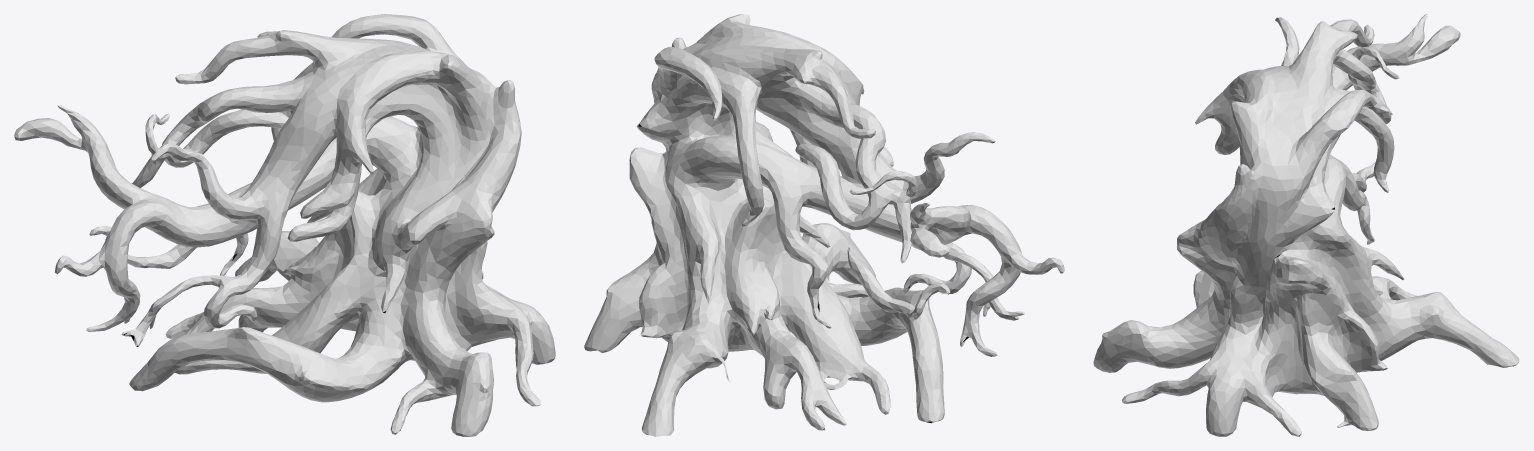
Rendered from roots01.glb.
3 views of the same model, side by side, from view 1: azimuth 30°, elevation 25°; view 2: azimuth 150°, elevation 25°; view 3: azimuth 270°, elevation 25° (orthographic). The views are drawn at different scales.
Visible parts, largest first — view 1: Low; view 2: Low; view 3: Low.
Boxes of the visible parts, x1,y1,x2,y2 form: Low: (14, 14, 555, 436); Low: (584, 14, 1064, 436); Low: (1093, 14, 1519, 436).
Bounding box in the file's own units: 1.98 × 1.39 × 1.7.
Materials: 1 (1 with a texture image).
